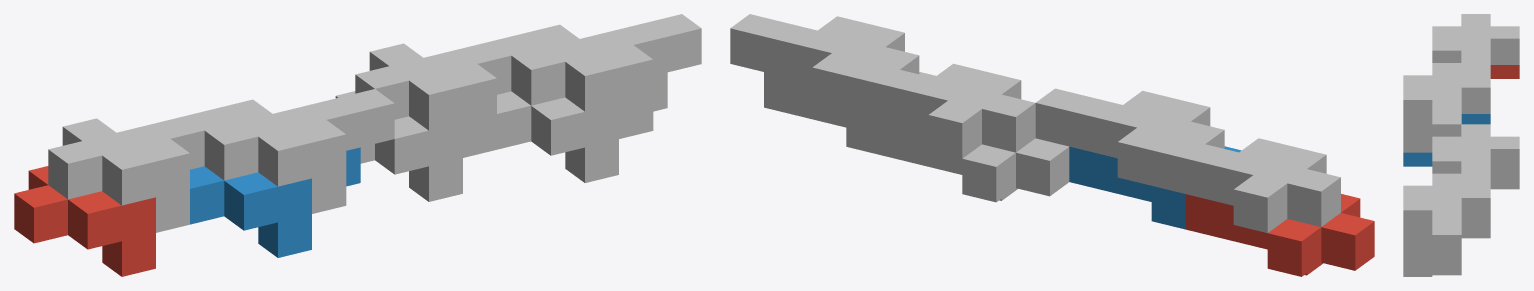
Rendered from tiling.obj.
3 renders of one model, left to right at view 1: azimuth 30°, elevation 25°; view 2: azimuth 150°, elevation 25°; view 3: azimuth 270°, elevation 25°, orthographic. The views are drawn at different scales.
Parts seen in each view (by area): view 1: copy_1_domain_8, copy_1_domain_4, copy_1_domain_3, copy_1_domain_7, copy_1_domain_1, copy_1_domain_6, copy_1_domain_2, copy_1_domain_5; view 2: copy_1_domain_7, copy_1_domain_3, copy_1_domain_4, copy_1_domain_8, copy_1_domain_1, copy_1_domain_5, copy_1_domain_2, copy_1_domain_6; view 3: copy_1_domain_8, copy_1_domain_4, copy_1_domain_7, copy_1_domain_3, copy_1_domain_6, copy_1_domain_2, copy_1_domain_5, copy_1_domain_1.
Boxes of the visible parts, left/top/right/bottom form: copy_1_domain_8: left=511, top=14, right=701, bottom=138; copy_1_domain_4: left=204, top=89, right=394, bottom=213; copy_1_domain_3: left=48, top=108, right=238, bottom=232; copy_1_domain_7: left=355, top=33, right=544, bottom=157; copy_1_domain_1: left=14, top=166, right=155, bottom=276; copy_1_domain_6: left=497, top=72, right=667, bottom=182; copy_1_domain_2: left=190, top=147, right=360, bottom=257; copy_1_domain_5: left=335, top=91, right=462, bottom=201; copy_1_domain_7: left=846, top=61, right=1035, bottom=158; copy_1_domain_3: left=1151, top=136, right=1340, bottom=232; copy_1_domain_4: left=1035, top=88, right=1224, bottom=185; copy_1_domain_8: left=730, top=14, right=919, bottom=110; copy_1_domain_1: left=1185, top=194, right=1374, bottom=276; copy_1_domain_5: left=880, top=119, right=1069, bottom=202; copy_1_domain_2: left=1069, top=146, right=1241, bottom=229; copy_1_domain_6: left=764, top=72, right=935, bottom=154; copy_1_domain_8: left=1403, top=173, right=1490, bottom=262; copy_1_domain_4: left=1403, top=63, right=1490, bottom=152; copy_1_domain_7: left=1432, top=124, right=1519, bottom=185; copy_1_domain_3: left=1432, top=14, right=1519, bottom=75; copy_1_domain_6: left=1403, top=224, right=1490, bottom=276; copy_1_domain_2: left=1403, top=114, right=1490, bottom=166; copy_1_domain_5: left=1490, top=175, right=1519, bottom=189; copy_1_domain_1: left=1490, top=65, right=1519, bottom=78.
Size of the model in its own units: 19 by 3 by 4.
